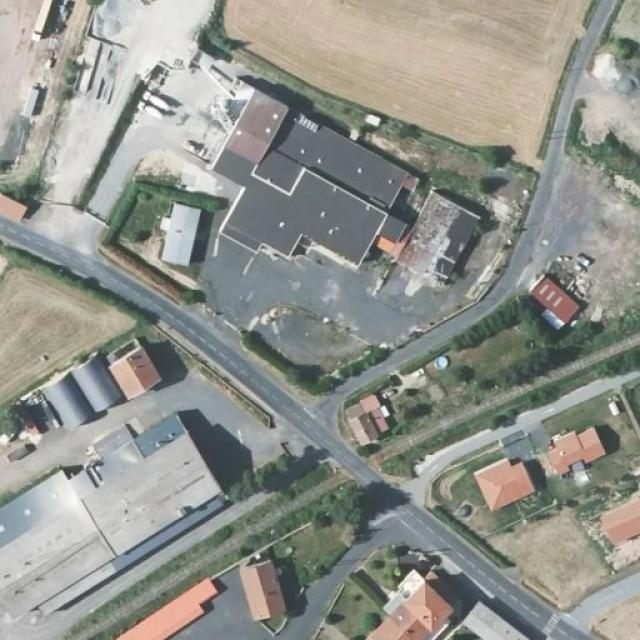ferme: (160, 203, 198, 268)
maison: (386, 561, 456, 640), (460, 581, 526, 640), (240, 556, 288, 626), (474, 461, 531, 511), (590, 488, 640, 542), (542, 432, 598, 479), (534, 279, 581, 327), (350, 395, 390, 443)
usine: (212, 86, 482, 297), (0, 392, 220, 598), (84, 581, 217, 640), (110, 348, 159, 398)
